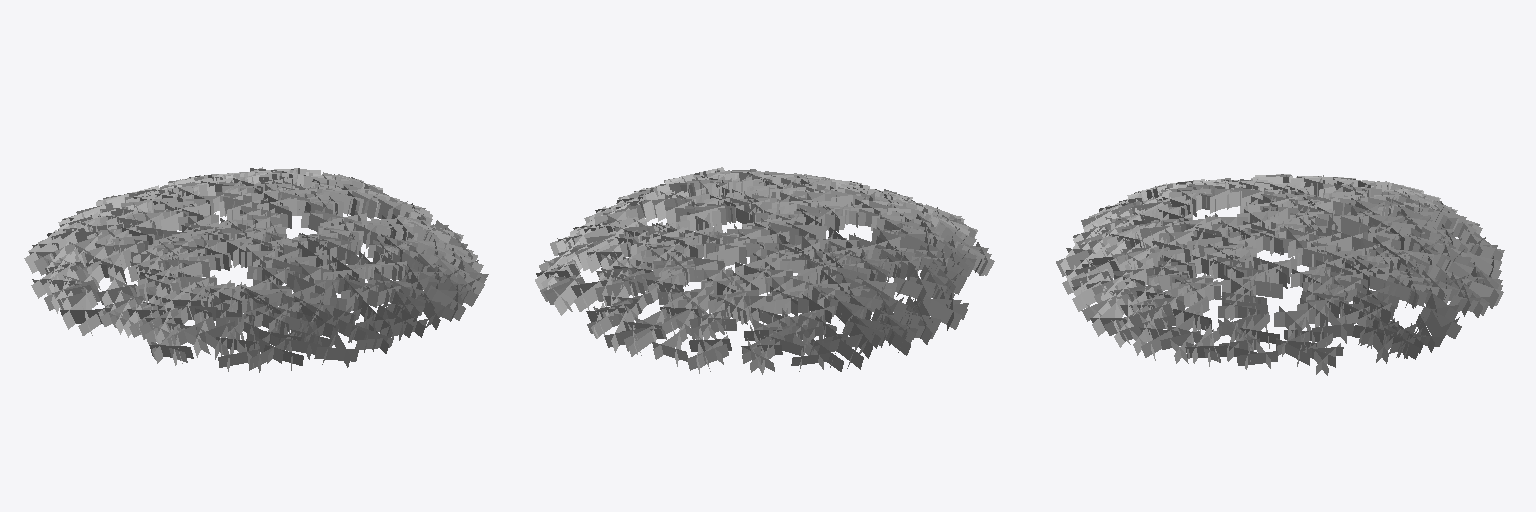
File: sm_grass_terrace2x1.OBJ
3 views of the same model, side by side, from view 1: azimuth 30°, elevation 25°; view 2: azimuth 150°, elevation 25°; view 3: azimuth 270°, elevation 25° (orthographic).
Visible parts, largest first — view 1: ZBrushPolyMesh3D; view 2: ZBrushPolyMesh3D; view 3: ZBrushPolyMesh3D.
Part boxes in pixels (left/top/right/bottom): ZBrushPolyMesh3D: left=24, top=167, right=488, bottom=372; ZBrushPolyMesh3D: left=535, top=167, right=994, bottom=374; ZBrushPolyMesh3D: left=1056, top=174, right=1504, bottom=375.
Bounding box in the file's own units: 1.1 × 0.1573 × 1.1.